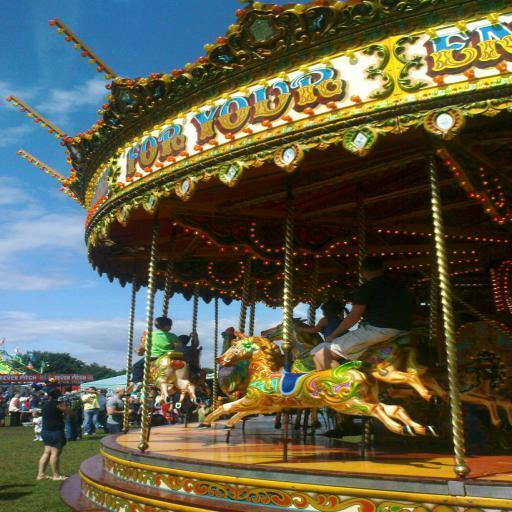horse: (196, 332, 442, 440), (258, 316, 450, 406), (380, 345, 512, 432), (213, 323, 285, 430), (134, 333, 204, 411)
